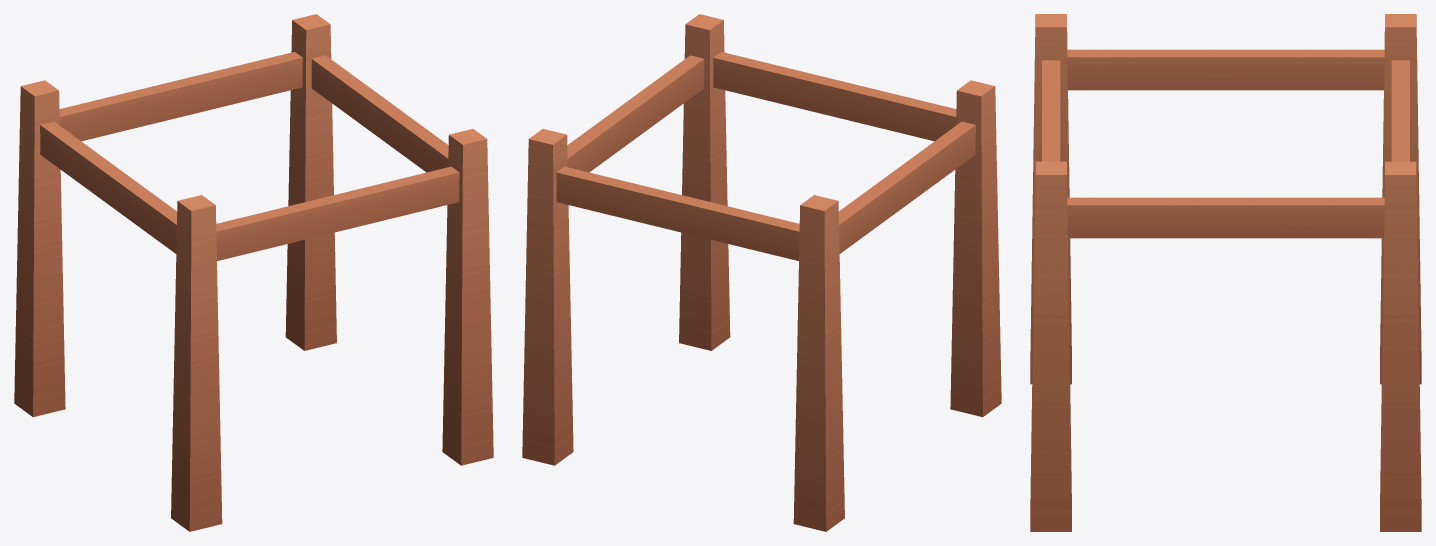
The model's file is structure.glb.
3 renders of one model, left to right at view 1: azimuth 30°, elevation 25°; view 2: azimuth 150°, elevation 25°; view 3: azimuth 270°, elevation 25°, orthographic. The views are drawn at different scales.
Parts seen in each view (by area): view 1: structure; view 2: structure; view 3: structure.
Part boxes in pixels (x1=…): structure: x1=14, y1=14, x2=493, y2=531; structure: x1=522, y1=14, x2=1001, y2=531; structure: x1=1030, y1=14, x2=1421, y2=531.
Bounding box in the file's own units: 0.5 × 0.5 × 0.5.
Materials: 1 (1 with a texture image).
